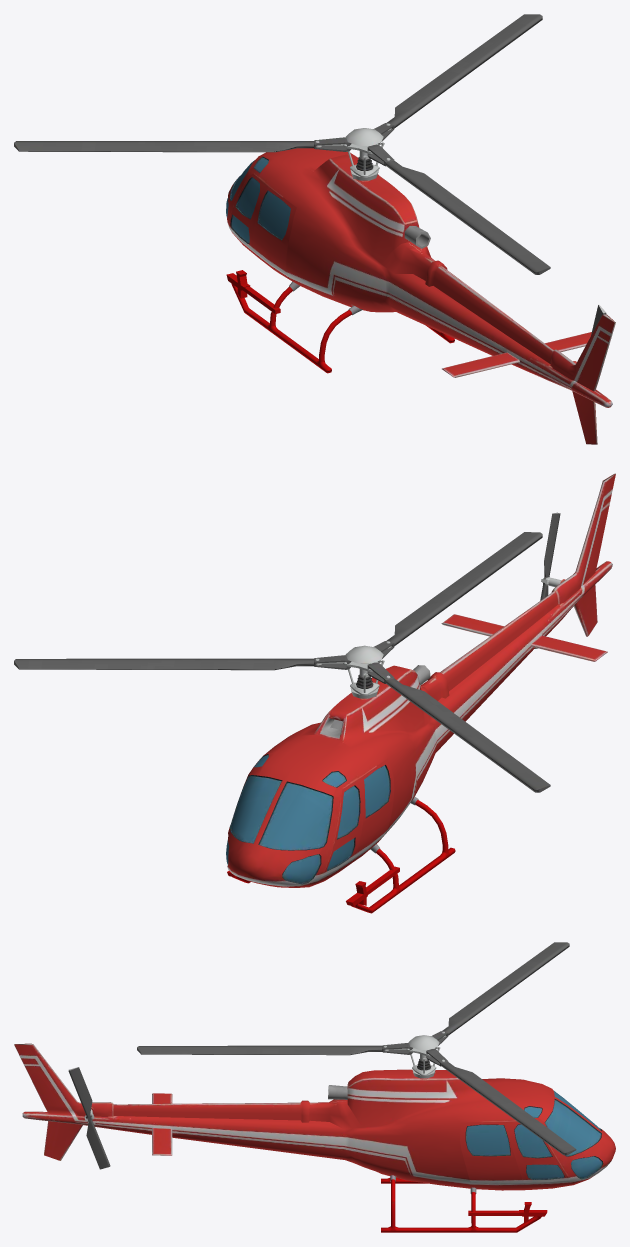
File: heli.glb
3 views of the same model, one above another, from view 1: azimuth 30°, elevation 25°; view 2: azimuth 150°, elevation 25°; view 3: azimuth 270°, elevation 25° (orthographic). The views are drawn at different scales.
Visible parts, largest first — view 1: cabine_poste_reservoir_soute, rotor_pales, patins, moyeu_arbre; view 2: cabine_poste_reservoir_soute, rotor_pales, patins, moyeu_arbre, rotor_anticouple; view 3: cabine_poste_reservoir_soute, rotor_pales, patins, rotor_anticouple, moyeu_arbre.
Boxes of the visible parts, left/top/right/bottom form: cabine_poste_reservoir_soute: left=226, top=148, right=615, bottom=444; rotor_pales: left=14, top=14, right=550, bottom=274; patins: left=226, top=270, right=454, bottom=373; moyeu_arbre: left=346, top=128, right=383, bottom=180; cabine_poste_reservoir_soute: left=226, top=473, right=615, bottom=887; rotor_pales: left=14, top=532, right=550, bottom=792; patins: left=227, top=797, right=455, bottom=913; moyeu_arbre: left=345, top=645, right=383, bottom=698; rotor_anticouple: left=534, top=512, right=565, bottom=648; cabine_poste_reservoir_soute: left=14, top=1043, right=615, bottom=1190; rotor_pales: left=137, top=942, right=576, bottom=1155; patins: left=381, top=1175, right=547, bottom=1232; rotor_anticouple: left=68, top=1067, right=110, bottom=1169; moyeu_arbre: left=408, top=1035, right=439, bottom=1078.
Bounding box in the file's own units: 0.0913 × 0.0345 × 0.11.
1 material, 1 textured.
